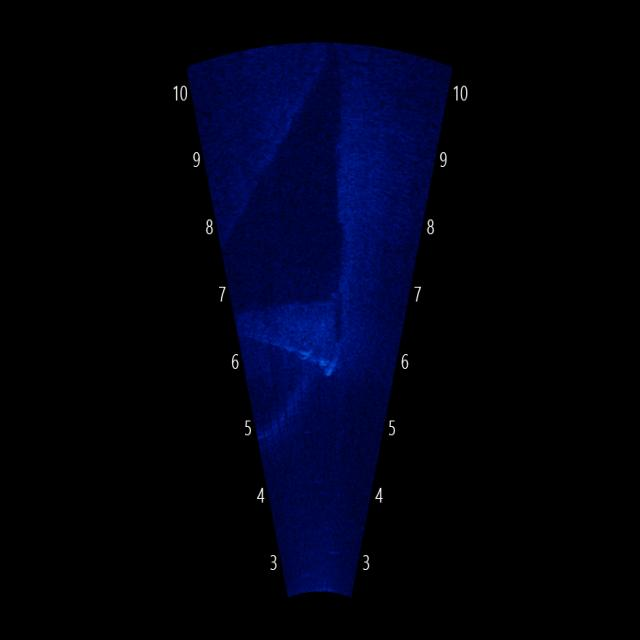triangle: (244, 278, 354, 386)
